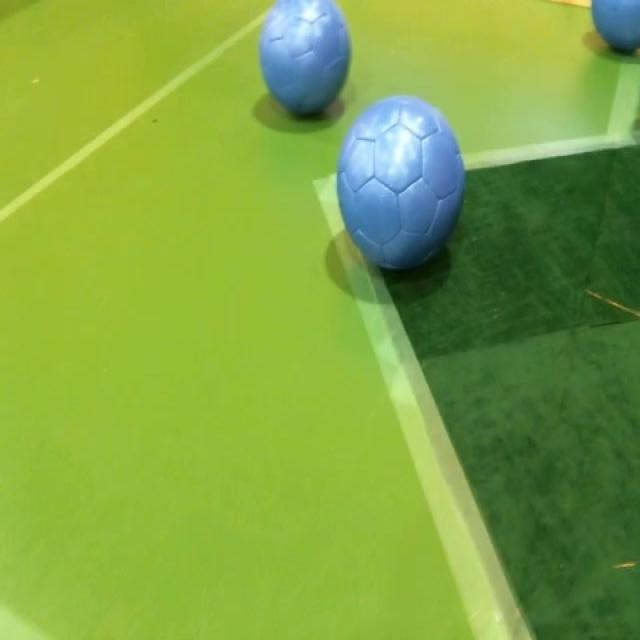blue_ball: (334, 94, 468, 277), (258, 0, 353, 120), (588, 0, 640, 56)
